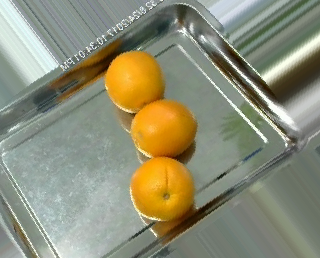Orange: (128, 156, 193, 220), (103, 49, 164, 113), (131, 99, 197, 157)
